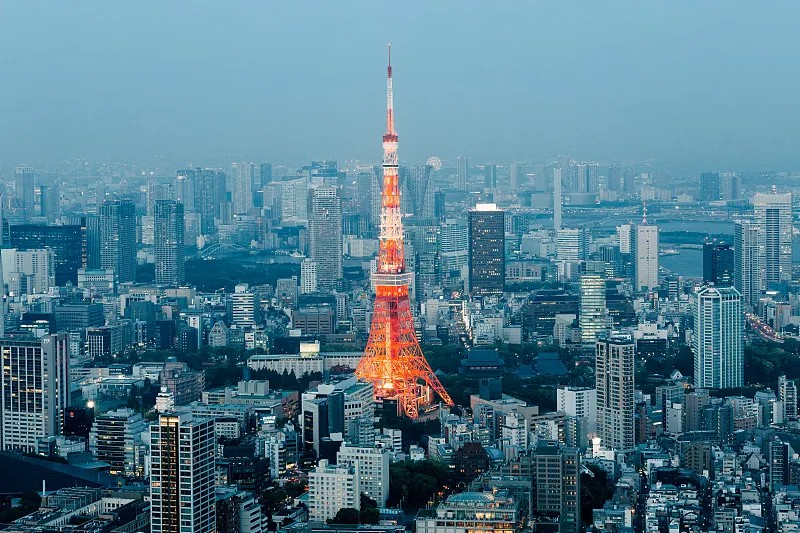Tokyo: (349, 42, 454, 420)
